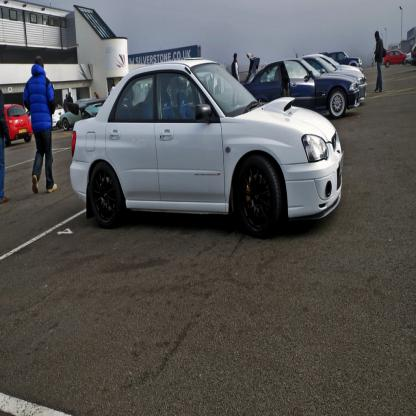Car: (70, 60, 344, 236), (242, 60, 360, 118), (302, 57, 367, 98), (61, 96, 98, 132), (4, 102, 32, 148), (305, 54, 363, 72), (321, 48, 363, 68), (382, 51, 406, 68), (51, 102, 64, 129)
